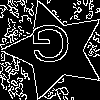G: (30, 25, 71, 71)
